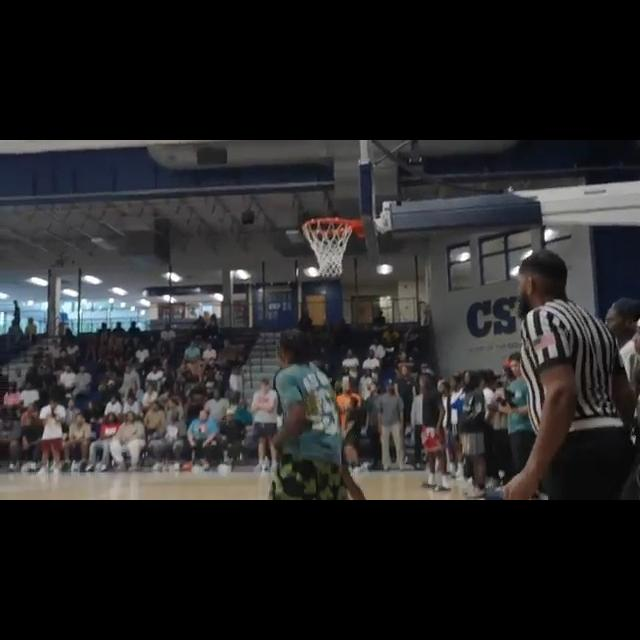hoop: (301, 215, 354, 280)
